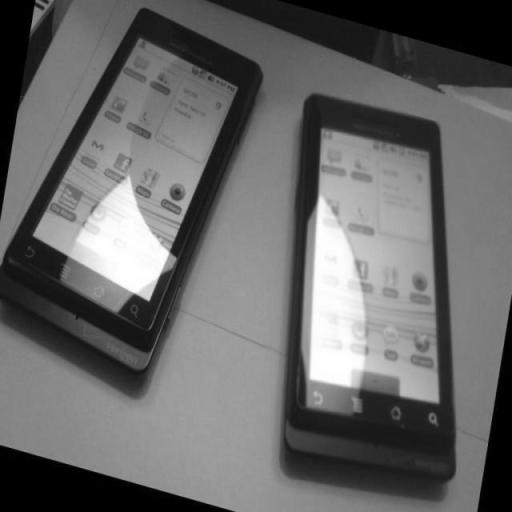phone: (0, 8, 262, 370), (285, 94, 455, 479)
